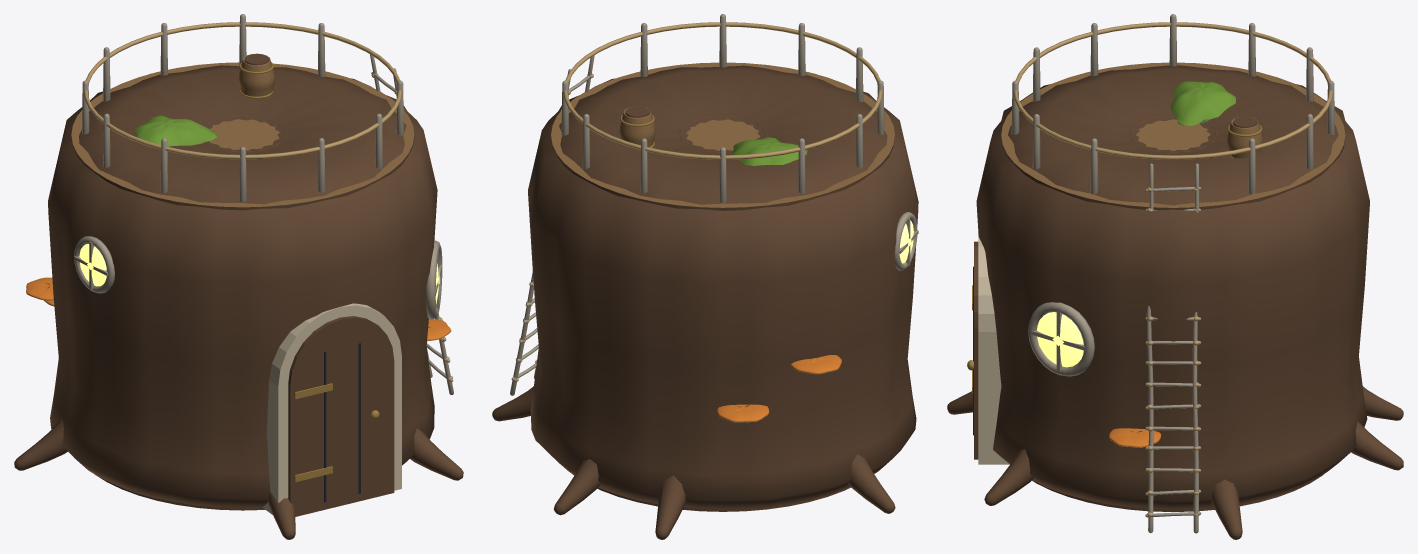
Rendered from sh_stump_house.fbx.
3 renders of one model, left to right at view 1: azimuth 30°, elevation 25°; view 2: azimuth 150°, elevation 25°; view 3: azimuth 270°, elevation 25°, orthographic.
Visible parts, largest first — view 1: SH_Stump_House; view 2: SH_Stump_House; view 3: SH_Stump_House.
Boxes of the visible parts, <box> form: SH_Stump_House: <box>14,14,463,539</box>; SH_Stump_House: <box>492,14,918,539</box>; SH_Stump_House: <box>947,14,1403,539</box>.
Bounding box in the file's own units: 162 × 140 × 159.
